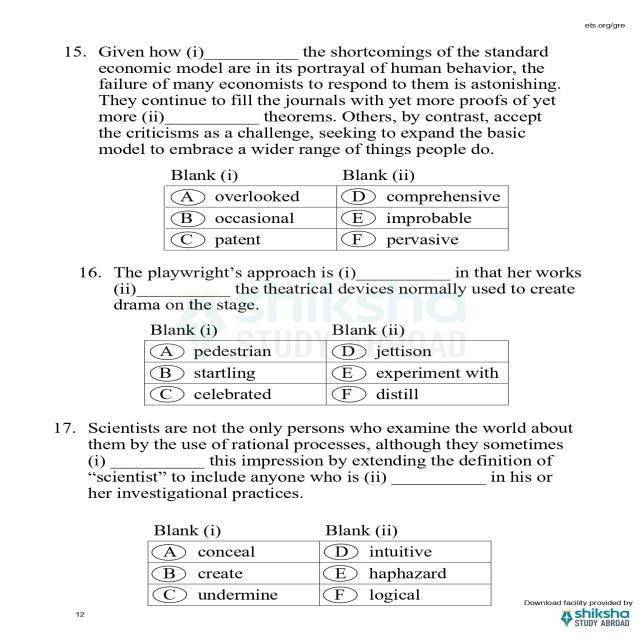Answer_Block: (50, 504, 603, 606), (60, 316, 593, 404), (56, 168, 592, 252)
Question_Answer_Block: (53, 40, 593, 254), (51, 420, 602, 606), (58, 262, 593, 406)
Question_Block: (58, 41, 590, 166), (45, 418, 600, 501), (62, 265, 588, 316)
Question_Paper_Area: (46, 27, 598, 604)
